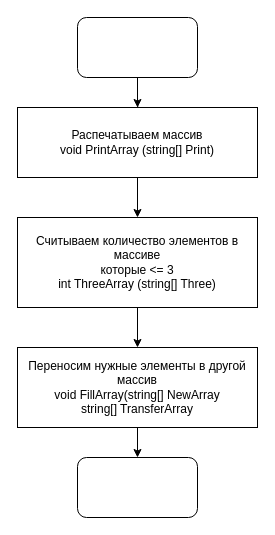
The diagram is 275 pixels wide and 535 high, and some of its shapes have lost their labels. Each missing label, with the box of its shape:
Конец: (76, 456, 198, 518)
Начало: (76, 16, 198, 78)
